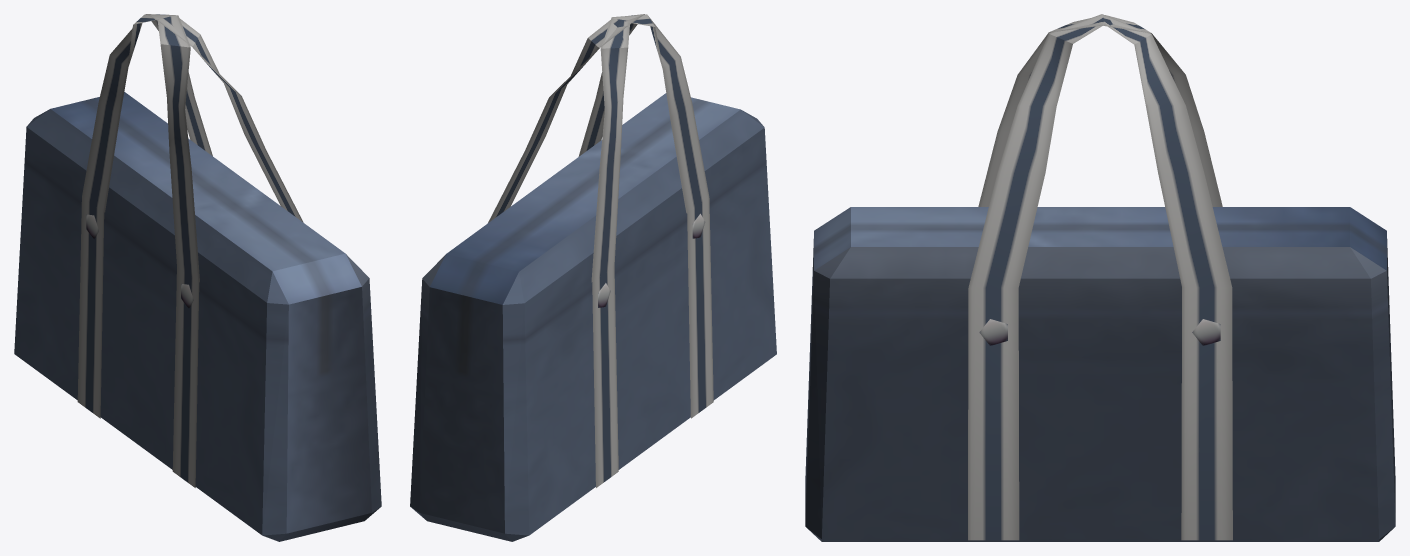
File: bag_typeA1.FBX
3 renders of one model, left to right at view 1: azimuth 30°, elevation 25°; view 2: azimuth 150°, elevation 25°; view 3: azimuth 270°, elevation 25°, orthographic. The views are drawn at different scales.
Parts seen in each view (by area): view 1: crm_bagA000; view 2: crm_bagA000; view 3: crm_bagA000.
Boxes of the visible parts, x1,y1,x2,y2 form: crm_bagA000: [14, 14, 381, 541]; crm_bagA000: [410, 14, 776, 541]; crm_bagA000: [805, 14, 1395, 541].
Bounding box in the file's own units: 11.67 × 39.09 × 43.33.
